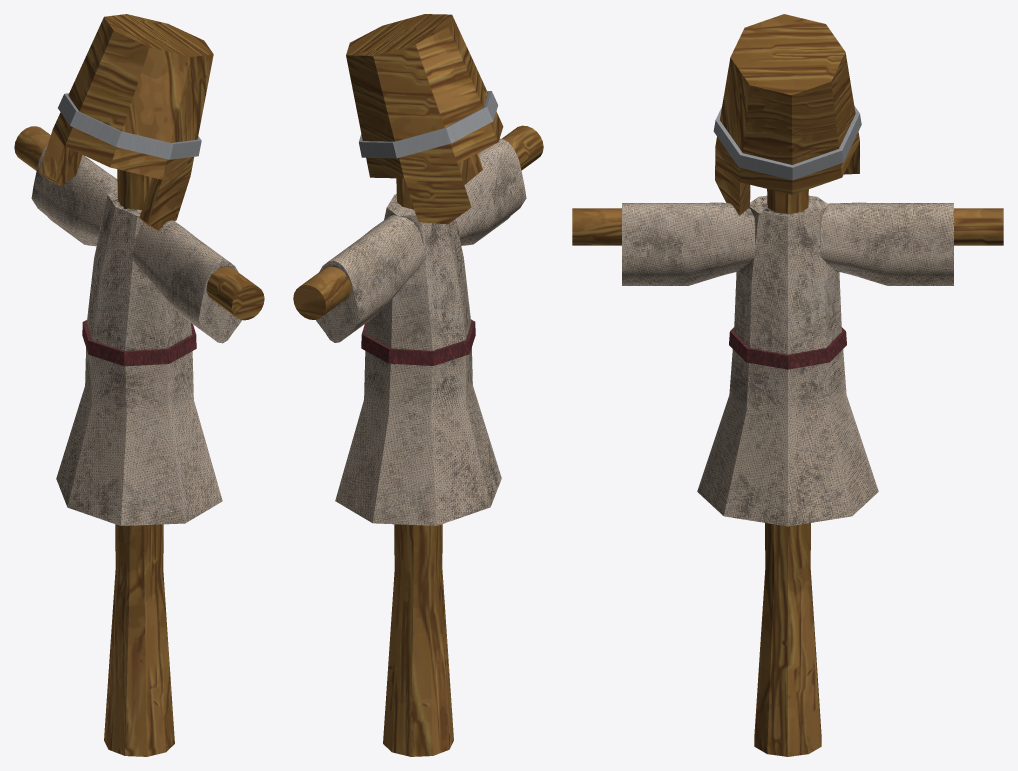
Rendered from ScareCrow.fbx.
3 renders of one model, left to right at view 1: azimuth 30°, elevation 25°; view 2: azimuth 150°, elevation 25°; view 3: azimuth 270°, elevation 25°, orthographic.
Visible parts, largest first — view 1: ScareCrow; view 2: ScareCrow; view 3: ScareCrow.
Part boxes in pixels (x1,y1,x2,y2): ScareCrow: (14, 14, 264, 756); ScareCrow: (293, 14, 543, 756); ScareCrow: (572, 14, 1003, 756).
Size of the model in its own units: 1.22 by 5.63 by 3.08.
